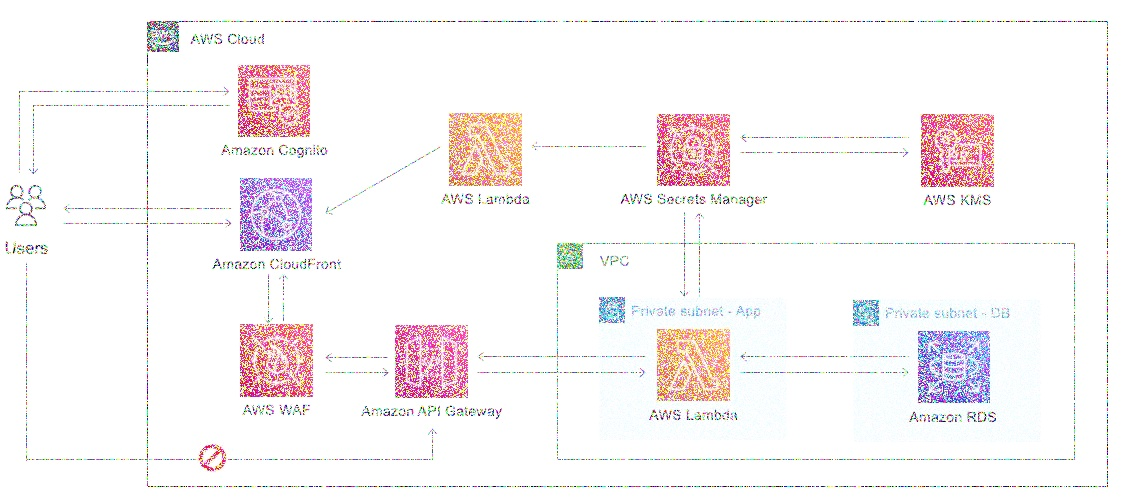API-Gateway: (389, 318, 471, 402)
Cloudfront: (236, 172, 318, 255)
Cognito: (235, 60, 315, 143)
Key Management Service: (918, 110, 1001, 192)
Lambda: (443, 107, 531, 188), (655, 324, 734, 404)
Private Subnet: (595, 290, 631, 327), (848, 292, 884, 327)
RDS: (916, 325, 995, 406)
Secret Manager: (652, 105, 735, 190)
Users: (3, 181, 49, 233)
WAF: (235, 321, 318, 403)
aws: (141, 15, 182, 56)
